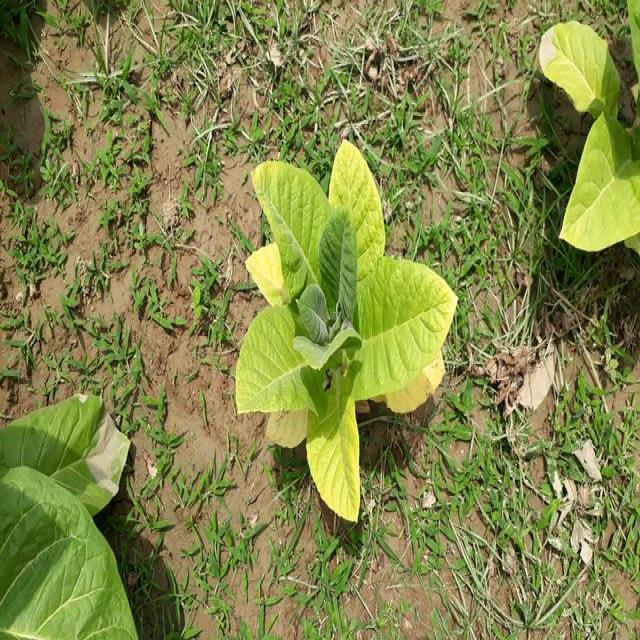crop: (244, 129, 444, 521), (14, 388, 136, 640), (545, 20, 640, 256)
